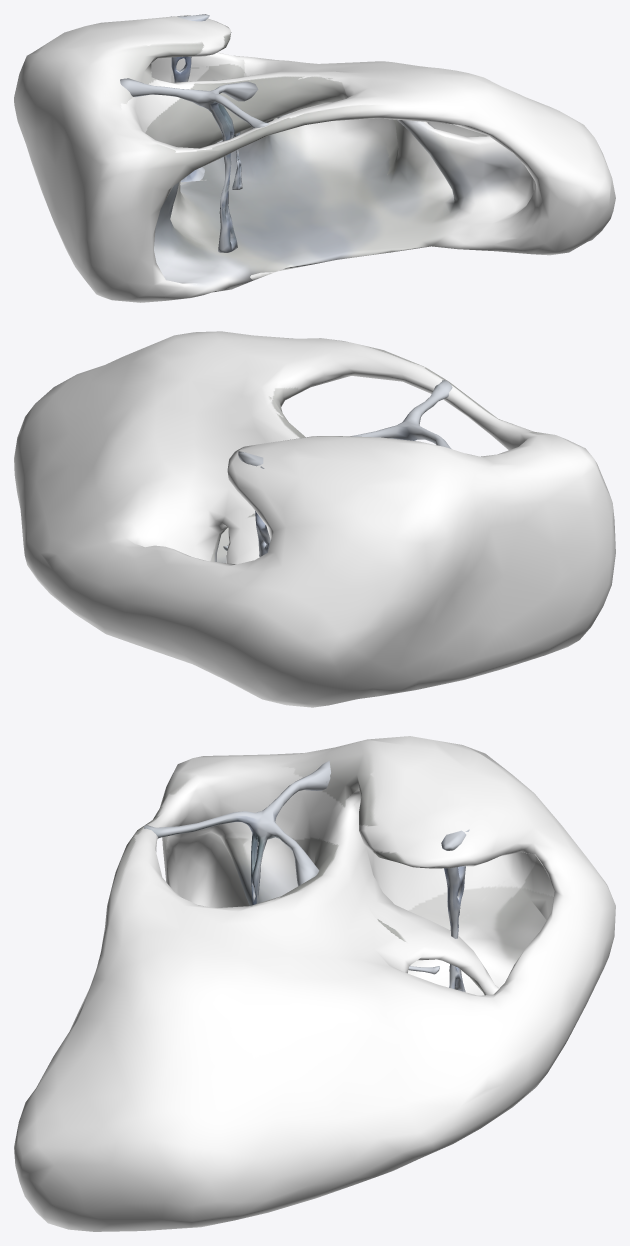
The model's file is Room.fbx.
The picture shows the model from 3 angles, top to bottom: view 1: azimuth 30°, elevation 25°; view 2: azimuth 150°, elevation 25°; view 3: azimuth 270°, elevation 25°; orthographic projection. The views are drawn at different scales.
Parts seen in each view (by area): view 1: Room, Colum 1, Colum 2; view 2: Room, Colum 1, Colum 2; view 3: Room, Colum 1, Colum 2.
Boxes of the visible parts, box(x1,y1,x2,y2) form: Room: box(14, 15, 615, 302); Colum 1: box(120, 78, 269, 252); Colum 2: box(171, 14, 209, 182); Room: box(14, 331, 615, 707); Colum 1: box(350, 380, 452, 448); Colum 2: box(238, 451, 270, 556); Room: box(14, 736, 615, 1231); Colum 1: box(144, 761, 330, 905); Colum 2: box(441, 829, 469, 991).
Bounding box in the file's own units: 117 × 45.01 × 93.73.
4 materials, 4 textured.
